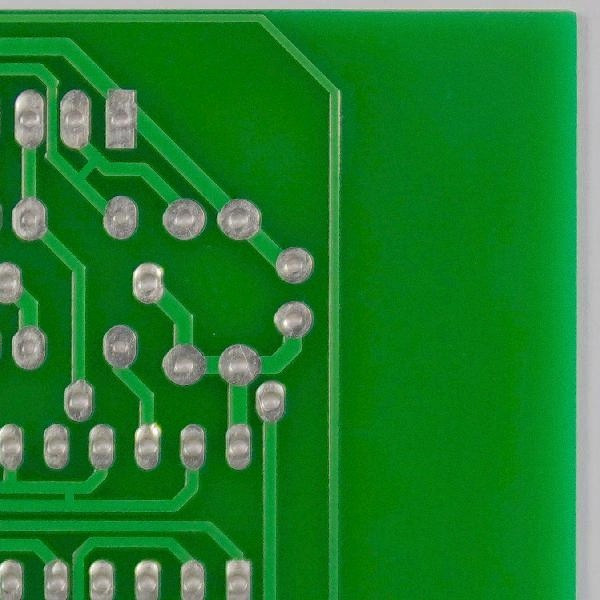short: (65, 147, 107, 190), (48, 479, 88, 512)
